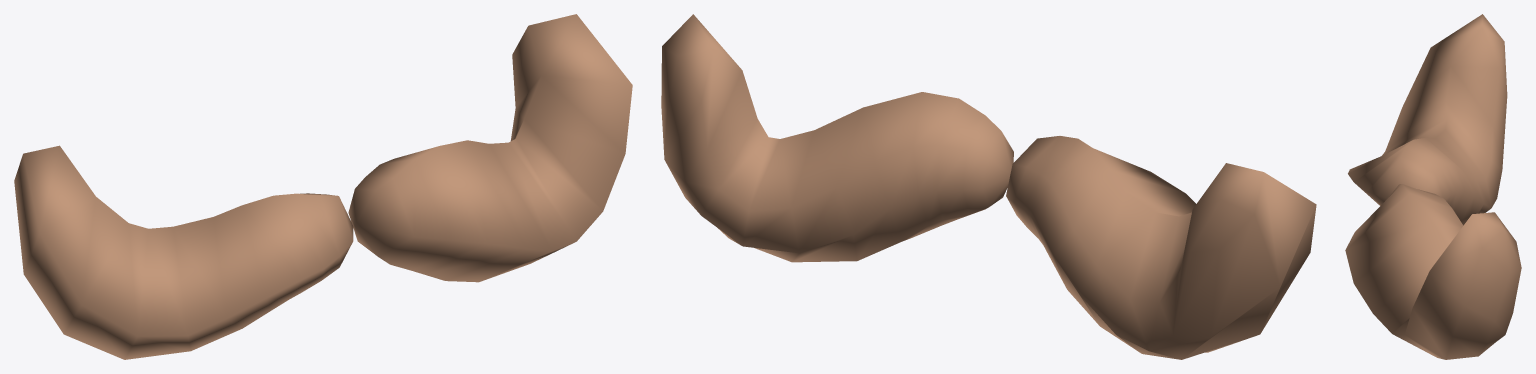
Rendered from thickMoustache.fbx.
3 views of the same model, side by side, from view 1: azimuth 30°, elevation 25°; view 2: azimuth 150°, elevation 25°; view 3: azimuth 270°, elevation 25° (orthographic). The views are drawn at different scales.
Visible parts, largest first — view 1: thickMoustaches; view 2: thickMoustaches; view 3: thickMoustaches.
Part boxes in pixels (x1=…): thickMoustaches: x1=14, y1=14, x2=632, y2=359; thickMoustaches: x1=661, y1=14, x2=1316, y2=359; thickMoustaches: x1=1345, y1=14, x2=1521, y2=359.
Size of the model in its own units: 37.44 by 13.24 by 12.21.
